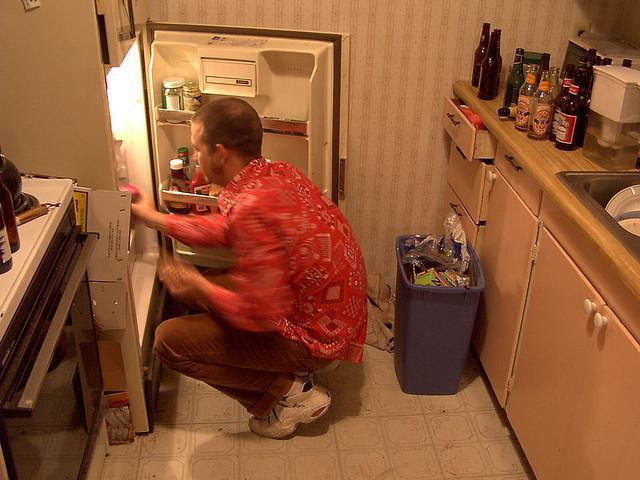Bote de Basura: (388, 222, 478, 399)
Lavaplatos: (554, 153, 639, 319)
